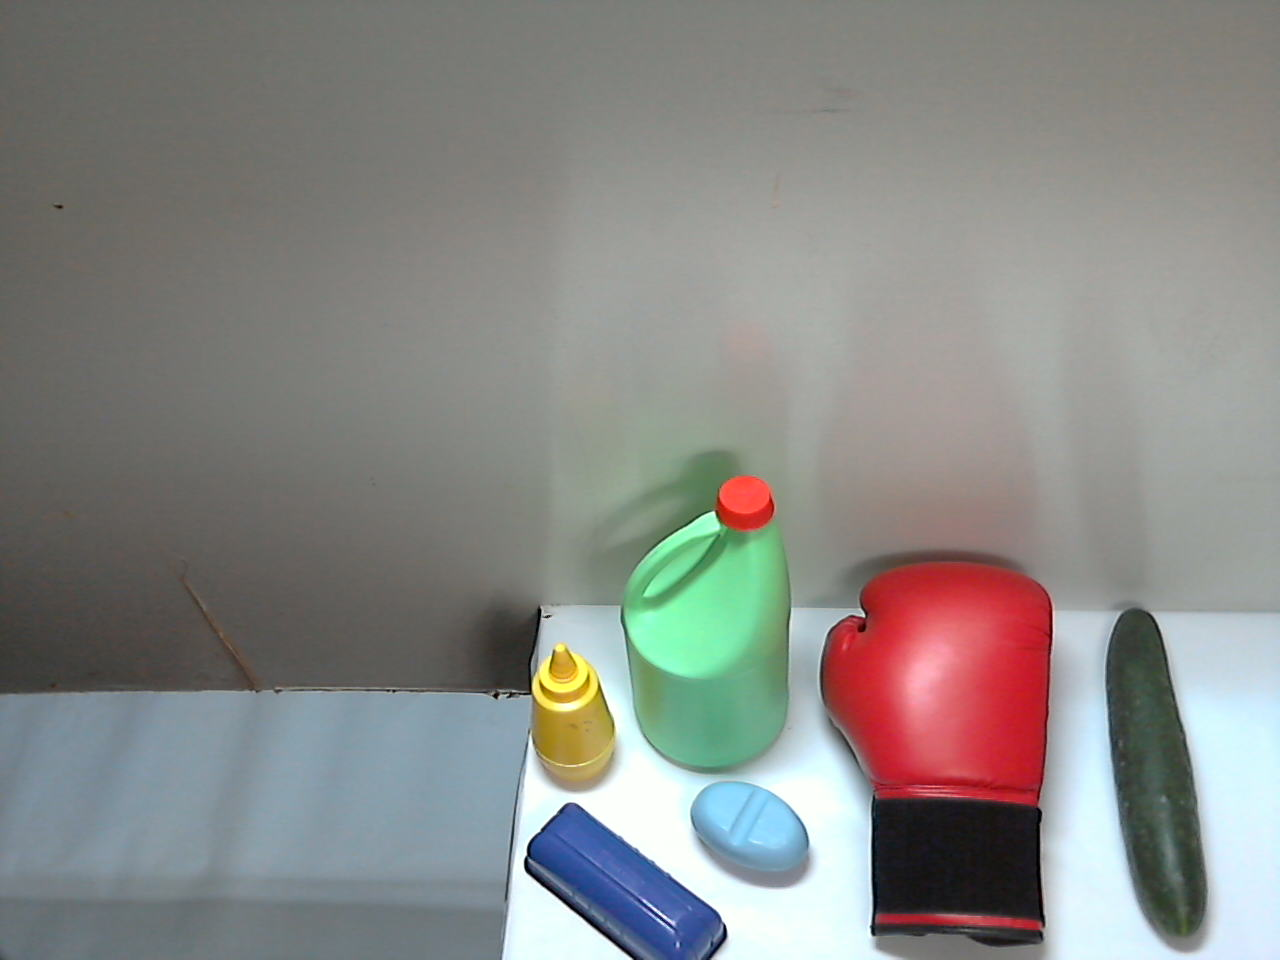cloroplano: (479, 495, 674, 789)
cubix: (617, 713, 729, 851)
pescado: (669, 638, 891, 750)
platoperro: (869, 657, 1188, 951)
uslero: (424, 839, 1001, 960)
